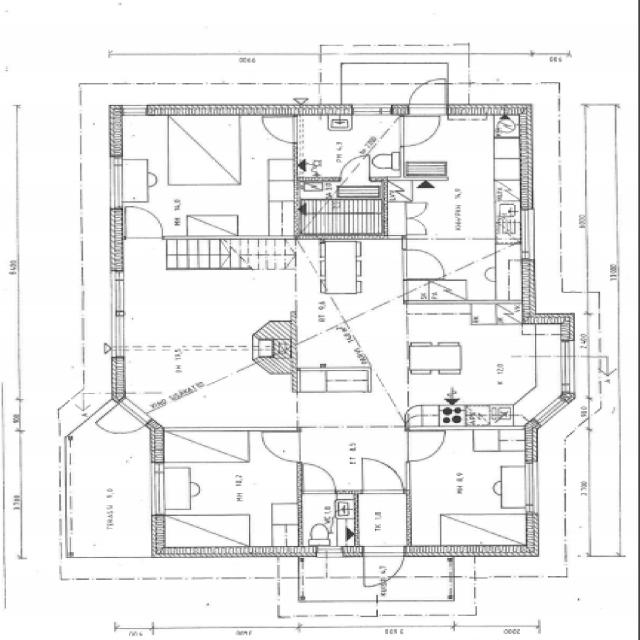door: (92, 402, 160, 438), (359, 544, 408, 589), (355, 455, 407, 496), (405, 76, 449, 122), (399, 244, 450, 283), (400, 426, 449, 464), (256, 427, 304, 464), (122, 204, 166, 242), (398, 112, 442, 150), (298, 460, 339, 496), (258, 113, 299, 146), (401, 201, 434, 239), (337, 153, 373, 182)
window: (106, 270, 130, 350), (555, 336, 583, 396), (513, 460, 541, 512), (105, 156, 128, 210), (146, 464, 168, 518), (520, 208, 538, 262), (348, 103, 394, 117), (119, 103, 149, 117)
zone: (114, 241, 300, 427), (113, 107, 300, 238), (297, 239, 409, 425), (403, 302, 564, 428), (156, 432, 300, 548), (405, 427, 536, 549), (402, 113, 519, 243), (294, 112, 403, 181), (402, 242, 522, 302), (298, 181, 388, 236), (160, 428, 254, 464), (353, 492, 409, 552), (300, 492, 355, 552), (153, 464, 195, 516)
